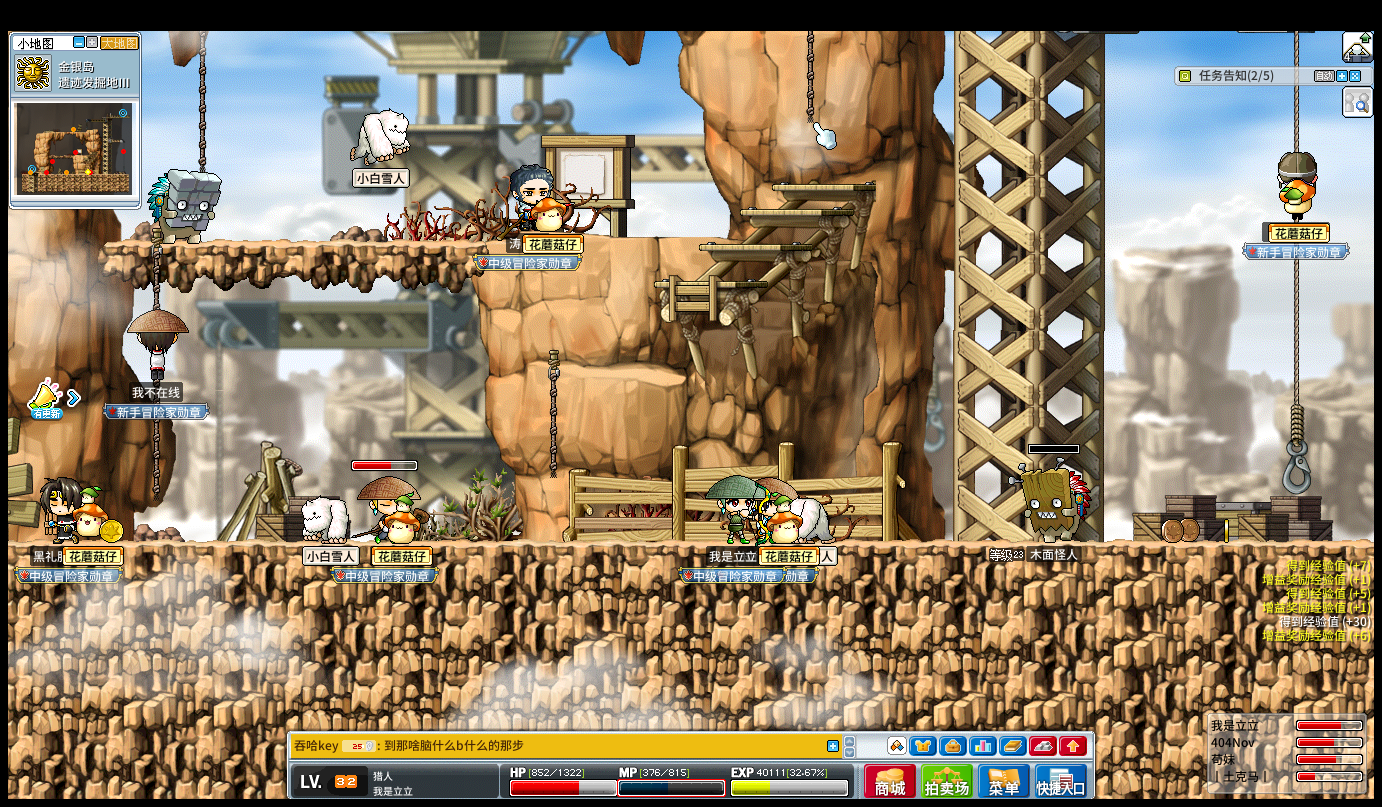floor: (8, 538, 1374, 549), (103, 237, 484, 250), (580, 364, 687, 387), (655, 279, 768, 291), (600, 232, 734, 241), (698, 243, 814, 252), (741, 207, 846, 215), (772, 183, 876, 190)
monster: (1017, 462, 1094, 540), (146, 169, 223, 244)
rope: (547, 349, 561, 484), (1293, 257, 1304, 411), (198, 34, 207, 172), (151, 420, 164, 503), (803, 31, 814, 123), (151, 233, 164, 308), (806, 30, 815, 122), (151, 418, 160, 500), (1293, 31, 1299, 151), (1289, 400, 1304, 445)
